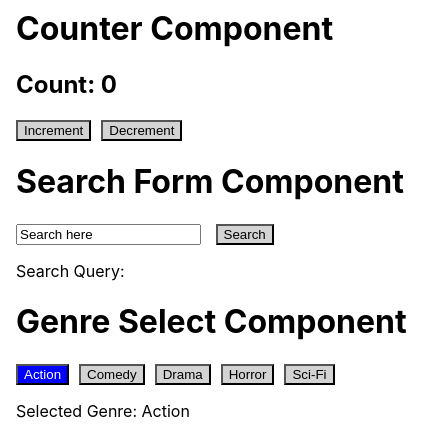
Test: App Component › updates selected genre on button click
Click the button "Comedy" at x=112, y=374, box [79, 364, 145, 384]
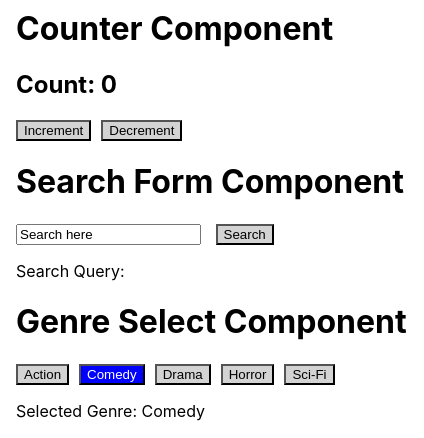
expect the text "Selected Genre: Comedy" is shown: met, box [16, 400, 205, 420]
